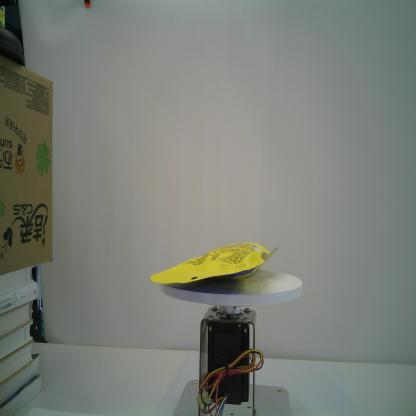Dried Fruit: (150, 241, 279, 285)
